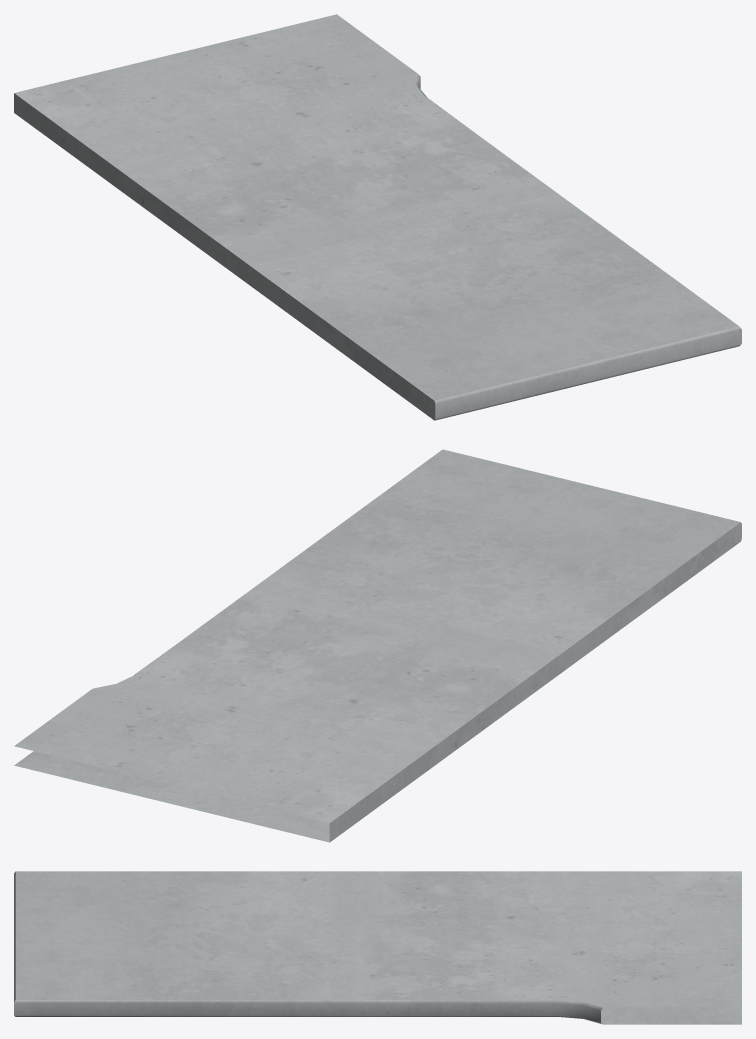
File: Bridge_LeftStrip.fbx
3 renders of one model, top to bottom at view 1: azimuth 30°, elevation 25°; view 2: azimuth 150°, elevation 25°; view 3: azimuth 270°, elevation 25°, orthographic. The views are drawn at different scales.
Visible parts, largest first — view 1: Bridge_LeftStrip; view 2: Bridge_LeftStrip; view 3: Bridge_LeftStrip.
Part boxes in pixels (box(x1,y1,x2,y2)): Bridge_LeftStrip: box(14, 14, 741, 420); Bridge_LeftStrip: box(14, 449, 741, 842); Bridge_LeftStrip: box(14, 871, 741, 1024).
Bounding box in the file's own units: 10.71 × 0.6233 × 24.05.
Materials: 1 (1 with a texture image).
